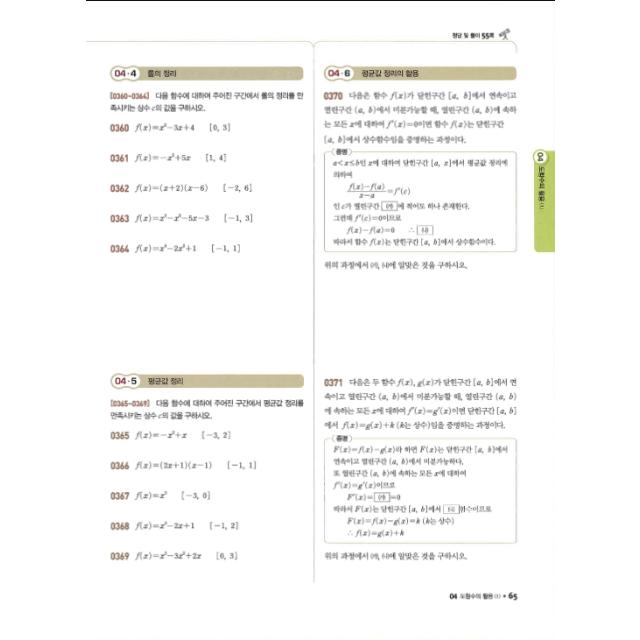many_in_one: (93, 392, 309, 422), (100, 84, 310, 114)
short: (318, 372, 524, 568), (317, 85, 523, 277)
small: (103, 234, 244, 264), (102, 455, 264, 477), (103, 144, 235, 170), (104, 178, 256, 198), (104, 207, 256, 227), (106, 544, 242, 566), (104, 115, 238, 137), (105, 516, 245, 536), (105, 426, 237, 446), (104, 484, 214, 504)
